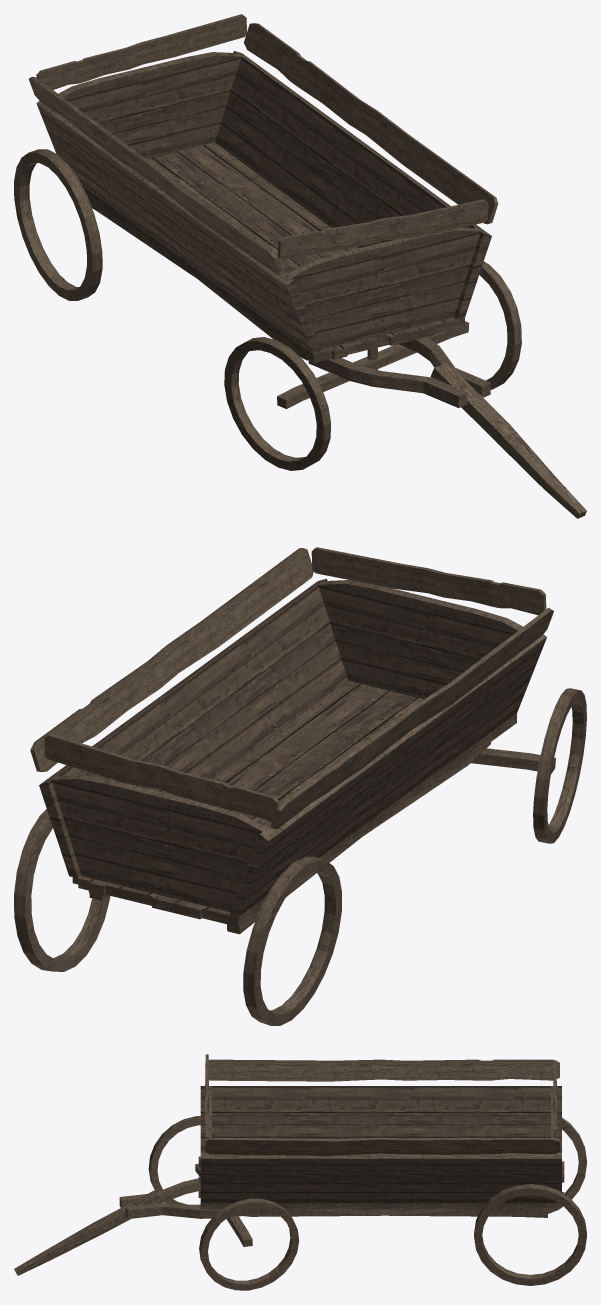
Rendered from f1_haywaggon_lod.dae.
The picture shows the model from 3 angles, top to bottom: view 1: azimuth 30°, elevation 25°; view 2: azimuth 150°, elevation 25°; view 3: azimuth 270°, elevation 25°; orthographic projection. The views are drawn at different scales.
Visible parts, largest first — view 1: f1_haywaggon_lod_Layer1; view 2: f1_haywaggon_lod_Layer1; view 3: f1_haywaggon_lod_Layer1.
Boxes of the visible parts, left/top/right/bottom form: f1_haywaggon_lod_Layer1: left=14, top=14, right=586, bottom=518; f1_haywaggon_lod_Layer1: left=14, top=547, right=586, bottom=1025; f1_haywaggon_lod_Layer1: left=14, top=1054, right=586, bottom=1290.
Bounding box in the file's own units: 1.98 × 1.58 × 5.07.
